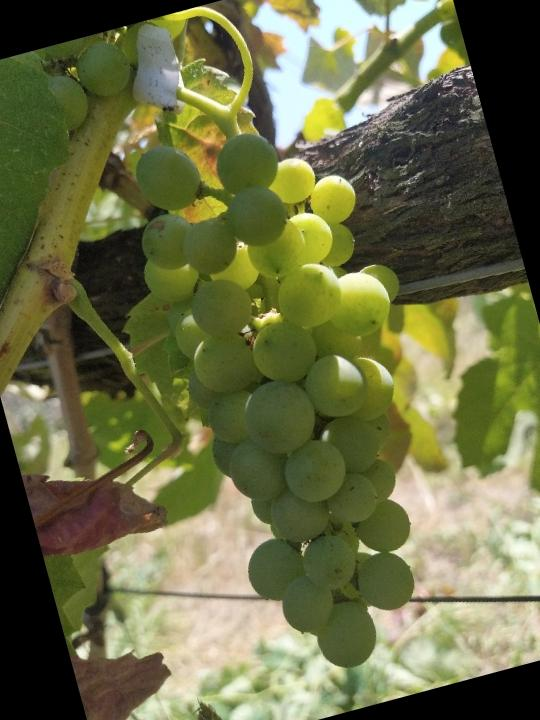grape: (111, 92, 494, 695)
